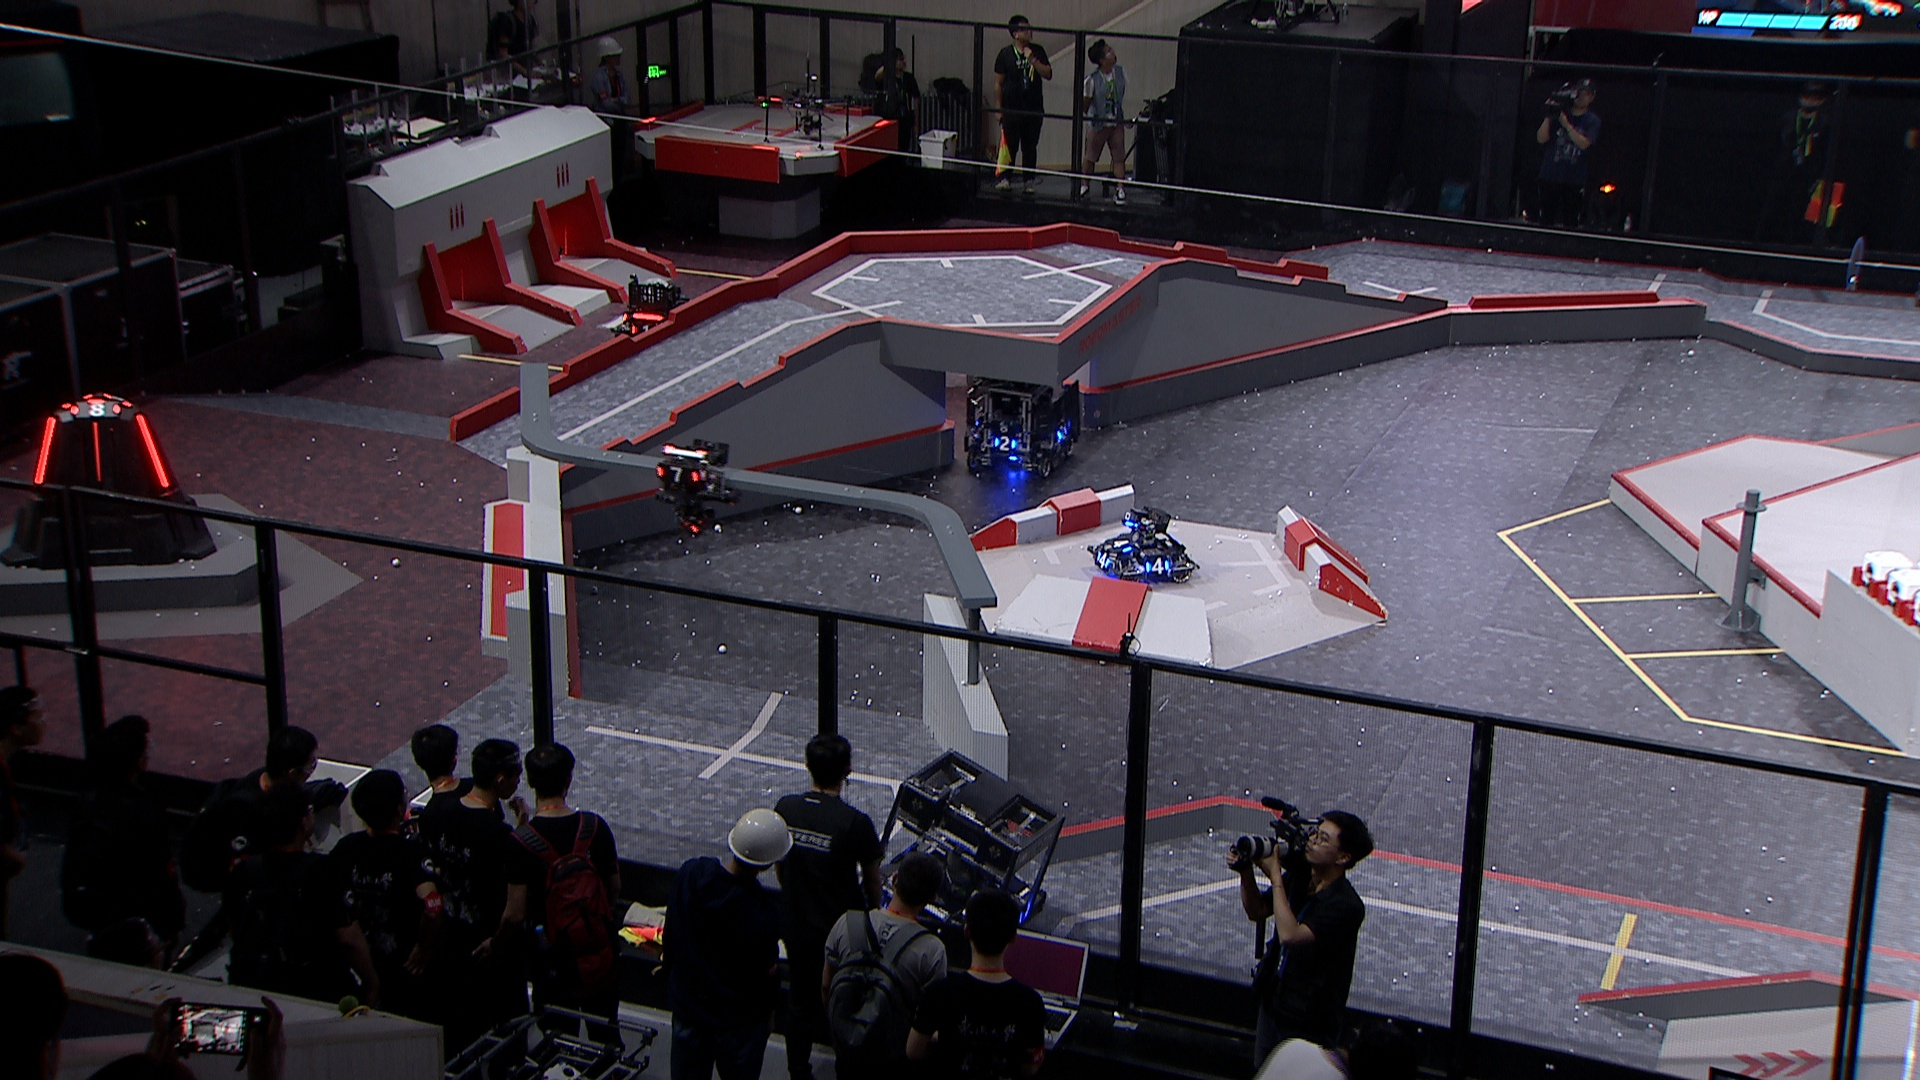armor: (133, 409, 175, 489), (30, 413, 58, 487), (651, 463, 703, 485), (90, 422, 105, 485), (65, 404, 124, 418), (1141, 556, 1171, 576), (992, 434, 1021, 454), (626, 322, 651, 338), (1112, 534, 1133, 553), (1093, 550, 1112, 570), (1055, 422, 1069, 443)
base: (3, 389, 216, 570)
car: (861, 746, 1064, 944), (960, 361, 1083, 483), (1087, 500, 1199, 585), (613, 276, 708, 356)
watcher: (650, 436, 736, 534)
